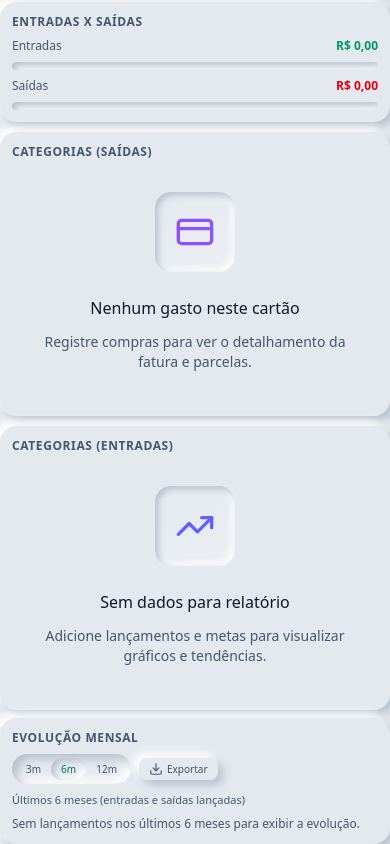
ReportsPanel › troca a janela para 12 meses e persiste a escolha
(page scrolled)
Click the button "12m".
click(107, 769)  # box [86, 758, 127, 780]
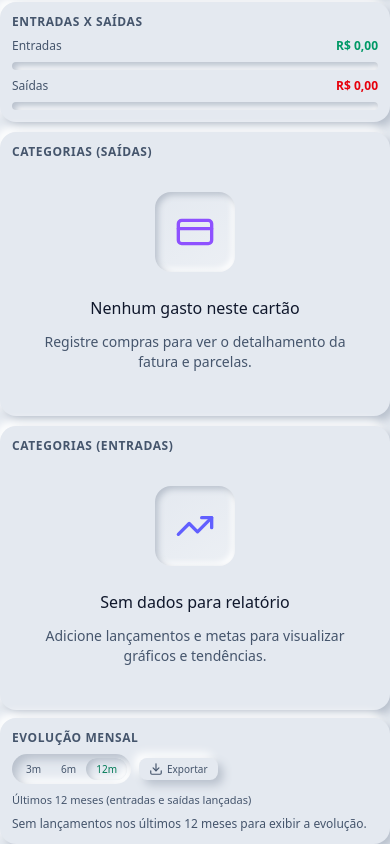
Expected: the text "Últimos 12 meses (entradas e saídas lançadas)" is shown, [12, 792, 251, 808]
